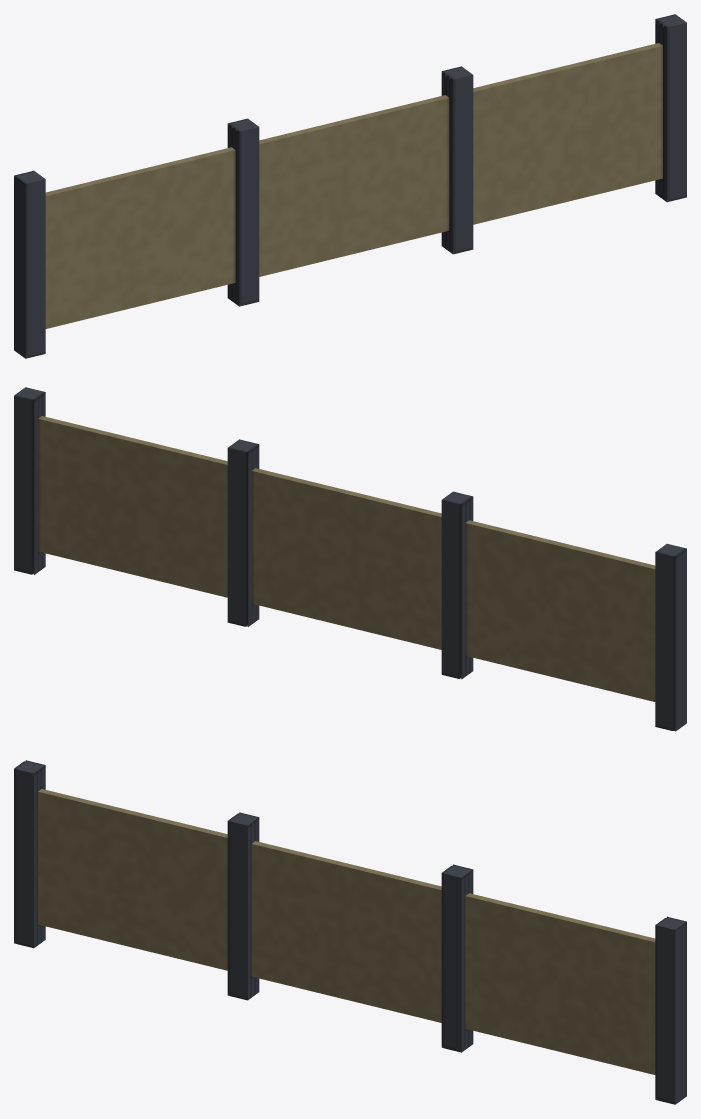
Rendered from plot_most_3.dae.
The picture shows the model from 3 angles, top to bottom: view 1: azimuth 30°, elevation 25°; view 2: azimuth 150°, elevation 25°; view 3: azimuth 330°, elevation 25°; orthographic projection.
Visible parts, largest first — view 1: Content; view 2: Content; view 3: Content.
Boxes of the visible parts, <box> form: Content: <box>14,14,686,358</box>; Content: <box>14,387,686,731</box>; Content: <box>14,760,686,1104</box>.
Size of the model in its own units: 99 by 25 by 3.
Materials: 1 (1 with a texture image).
